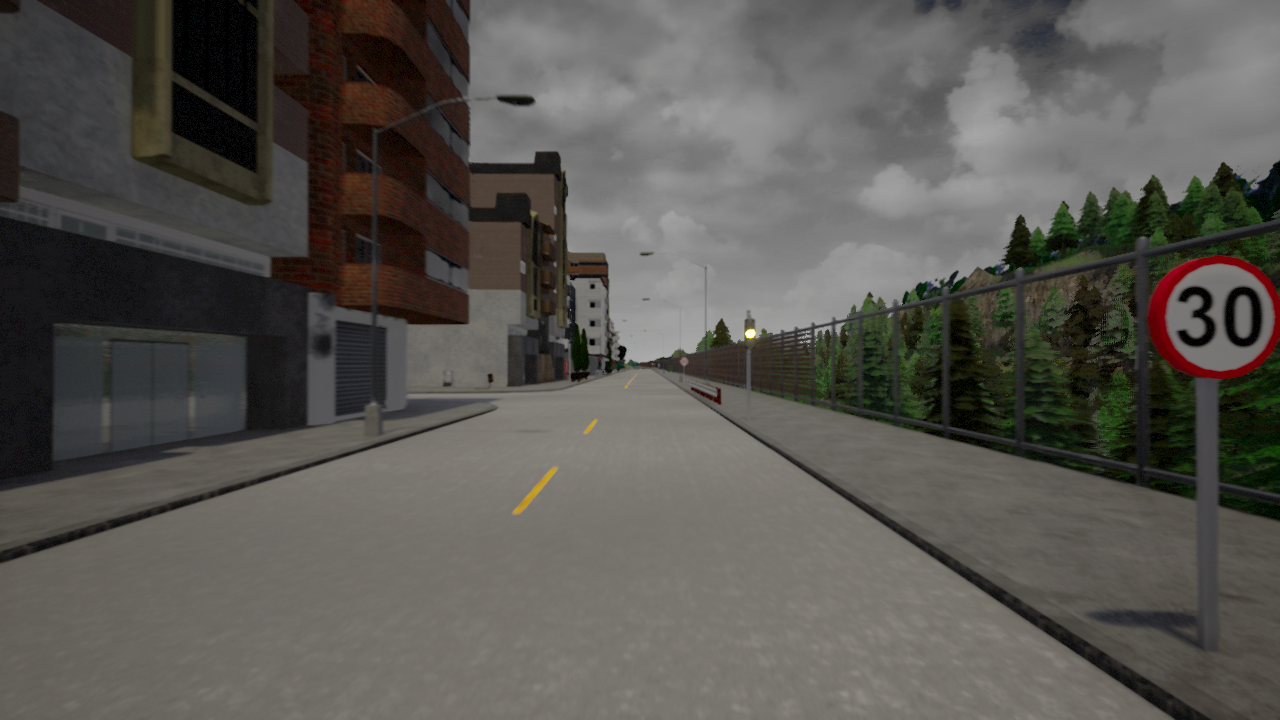yellow: (743, 318, 757, 349)
